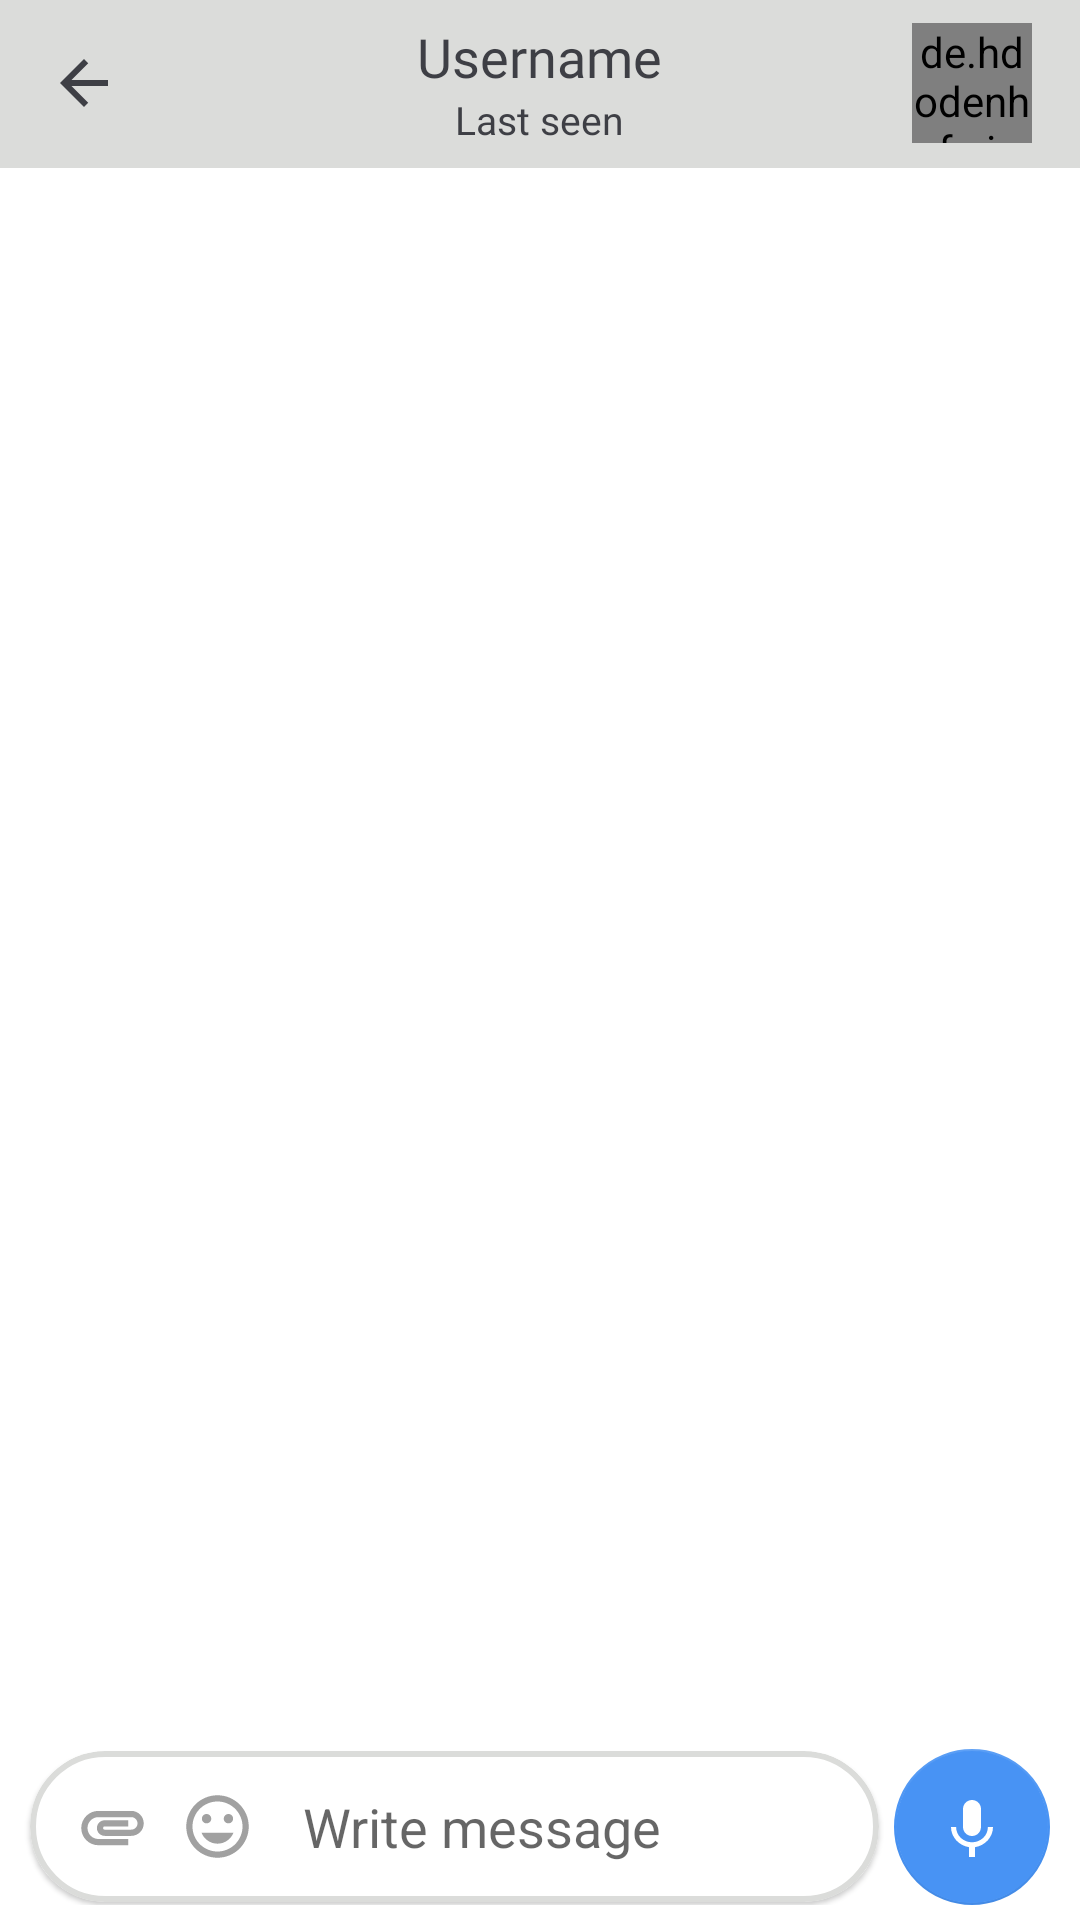

Screen size 1080px x 1920px. Icon name, then its box in pixels as (x1, y1, x2, y2):
arrow back: (60, 59, 108, 107)
attachment: (81, 1811, 144, 1845)
insert emoticon: (186, 1795, 249, 1858)
keyboard voice: (894, 1749, 1050, 1905)
